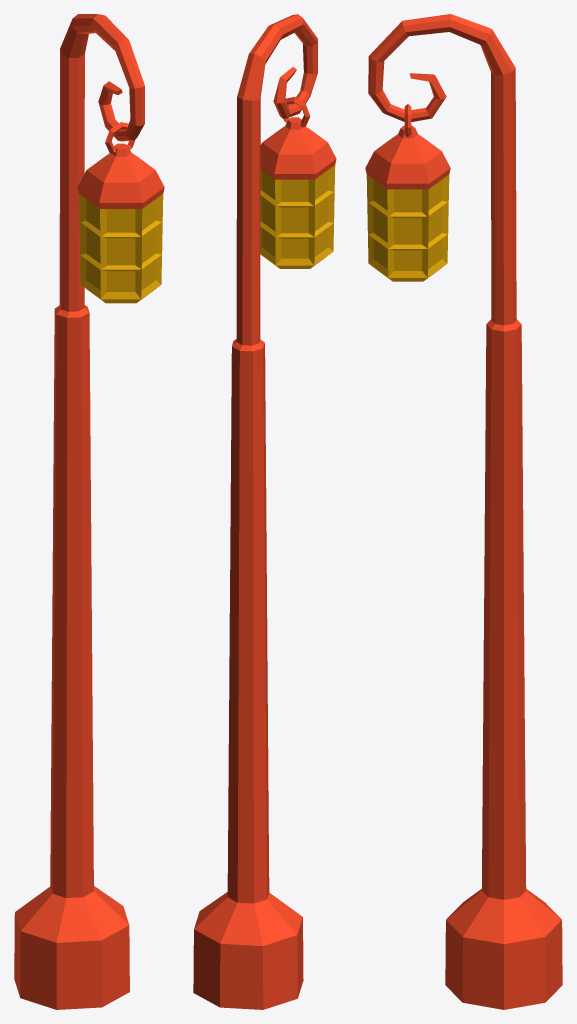
The model's file is SM_Lamp_Sidewalk_F_City.fbx.
3 views of the same model, side by side, from view 1: azimuth 30°, elevation 25°; view 2: azimuth 150°, elevation 25°; view 3: azimuth 270°, elevation 25° (orthographic). The views are drawn at different scales.
Parts seen in each view (by area): view 1: SM_Lamp_Sidewalk_F_City; view 2: SM_Lamp_Sidewalk_F_City; view 3: SM_Lamp_Sidewalk_F_City.
Boxes of the visible parts, x1=… form: SM_Lamp_Sidewalk_F_City: x1=14, y1=14, x2=164, y2=1009; SM_Lamp_Sidewalk_F_City: x1=193, y1=14, x2=336, y2=1009; SM_Lamp_Sidewalk_F_City: x1=365, y1=14, x2=562, y2=1009.
Bounding box in the file's own units: 0.4167 × 3.8 × 0.701.
